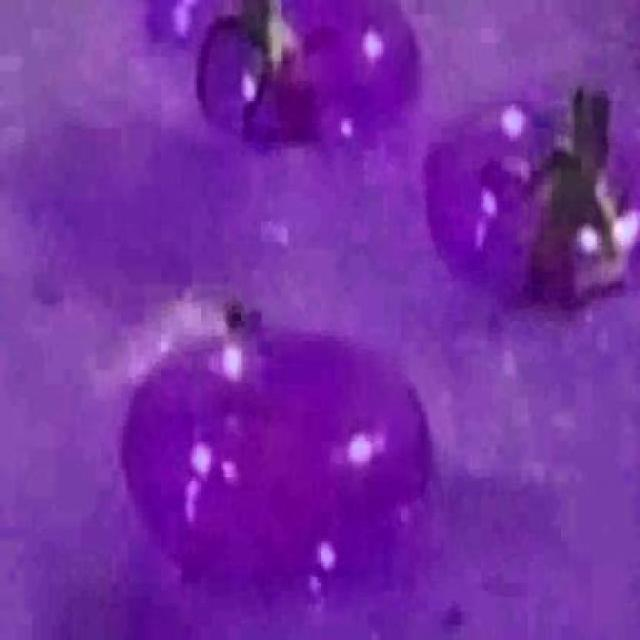drowning: (219, 286, 263, 360)
